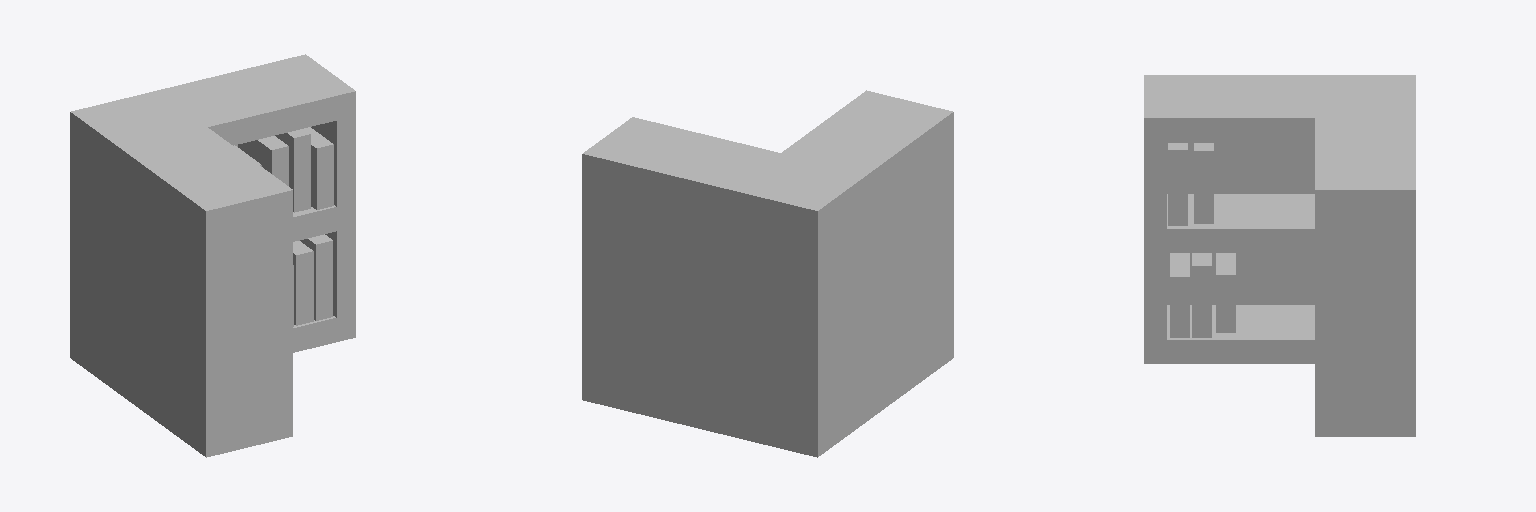
Rendered from FM_bookshelf_c.obj.
The picture shows the model from 3 angles: view 1: azimuth 30°, elevation 25°; view 2: azimuth 150°, elevation 25°; view 3: azimuth 270°, elevation 25°; orthographic projection.
Parts seen in each view (by area): view 1: Cube.002; view 2: Cube.002; view 3: Cube.002.
Boxes of the visible parts, x1,y1,x2,y2 form: Cube.002: [70, 54, 355, 457]; Cube.002: [582, 90, 953, 457]; Cube.002: [1144, 75, 1415, 436].
Bounding box in the file's own units: 0.9999 × 1 × 1.